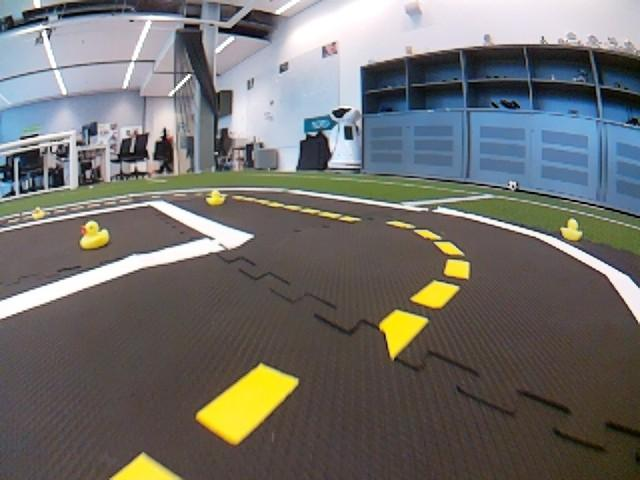Duckies: (80, 222, 108, 250), (561, 219, 582, 241), (207, 189, 226, 205), (31, 208, 46, 219)
